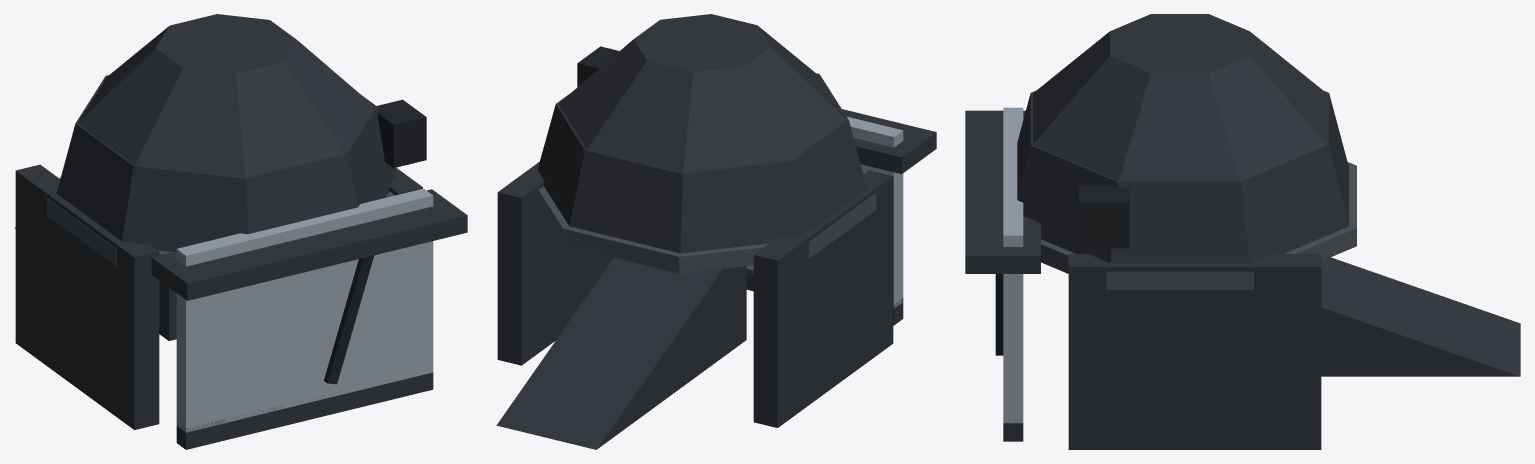
The model's file is inf_warden_plate_helmet.fbx.
3 views of the same model, side by side, from view 1: azimuth 30°, elevation 25°; view 2: azimuth 150°, elevation 25°; view 3: azimuth 270°, elevation 25° (orthographic). The views are drawn at different scales.
Parts seen in each view (by area): view 1: inf_warden_plate_helmet; view 2: inf_warden_plate_helmet; view 3: inf_warden_plate_helmet.
Boxes of the visible parts, bbox=[...] form: inf_warden_plate_helmet: bbox=[15, 14, 467, 449]; inf_warden_plate_helmet: bbox=[496, 14, 936, 449]; inf_warden_plate_helmet: bbox=[965, 14, 1520, 449].
Size of the model in its own units: 144 by 146 by 220.
